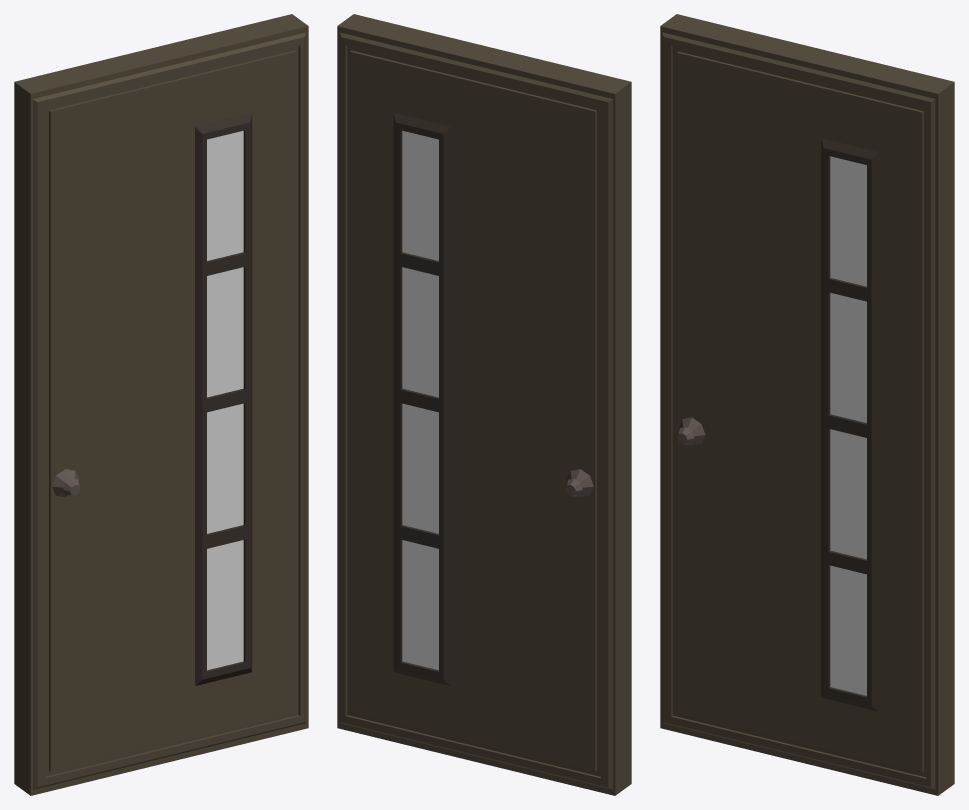
File: quaternius-house-interior-door-6.glb
3 views of the same model, side by side, from view 1: azimuth 30°, elevation 25°; view 2: azimuth 150°, elevation 25°; view 3: azimuth 330°, elevation 25° (orthographic).
Visible parts, largest first — view 1: Door_6; view 2: Door_6; view 3: Door_6.
Part boxes in pixels (x1,y1,x2,y2): Door_6: (14,14,308,795); Door_6: (337,14,631,795); Door_6: (660,14,954,795).
Size of the model in its own units: 1.74 by 4.2 by 0.4212.
